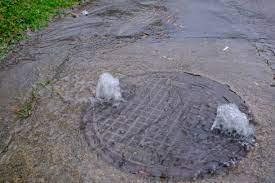drainage overflow-repair-: (25, 40, 271, 173)
